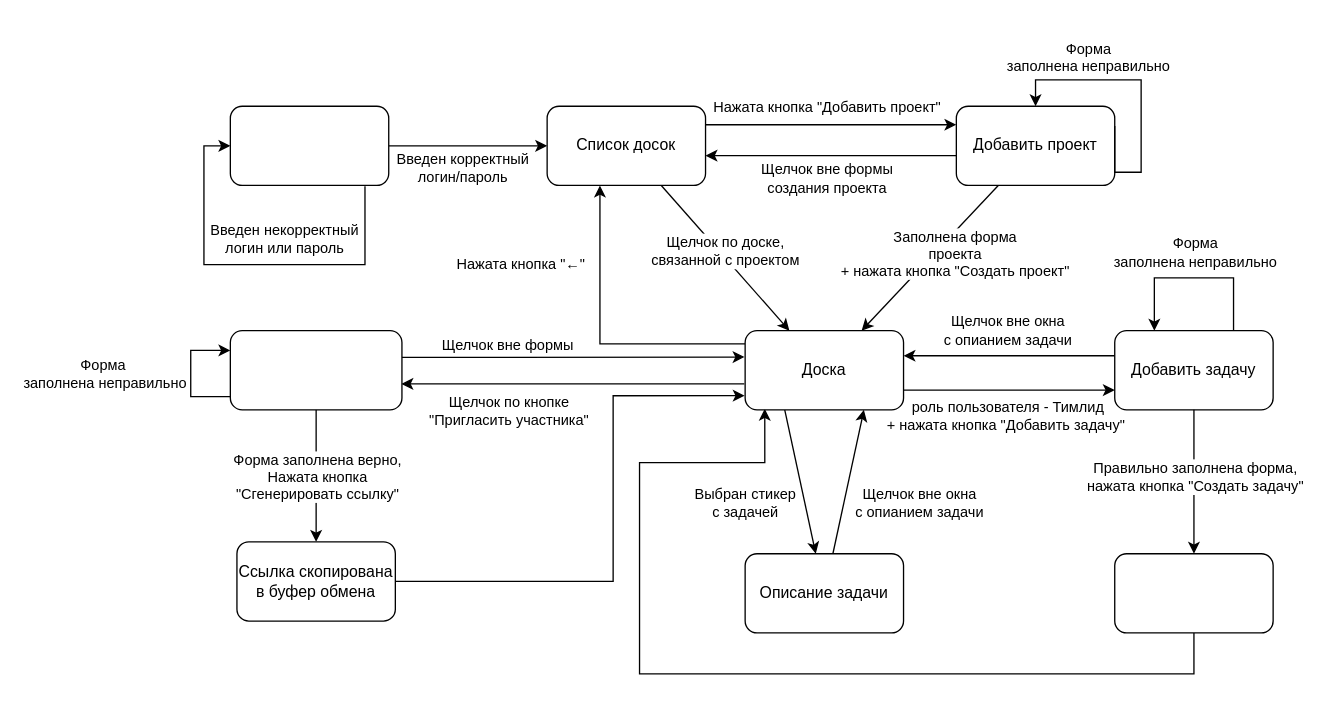
This 1325x708 diagram has some shape labels left out. Each missing label, with the centre of its shape:
"Вход в систему" belongs at (x=309, y=145).
"Добавить участника" belongs at (x=315, y=369).
"Задача добавлена на доску" belongs at (x=1193, y=592).
